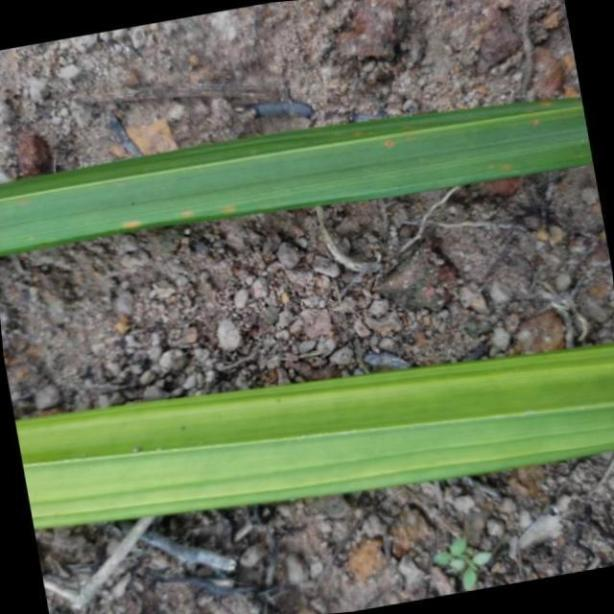nitrogen: (14, 347, 614, 532)
